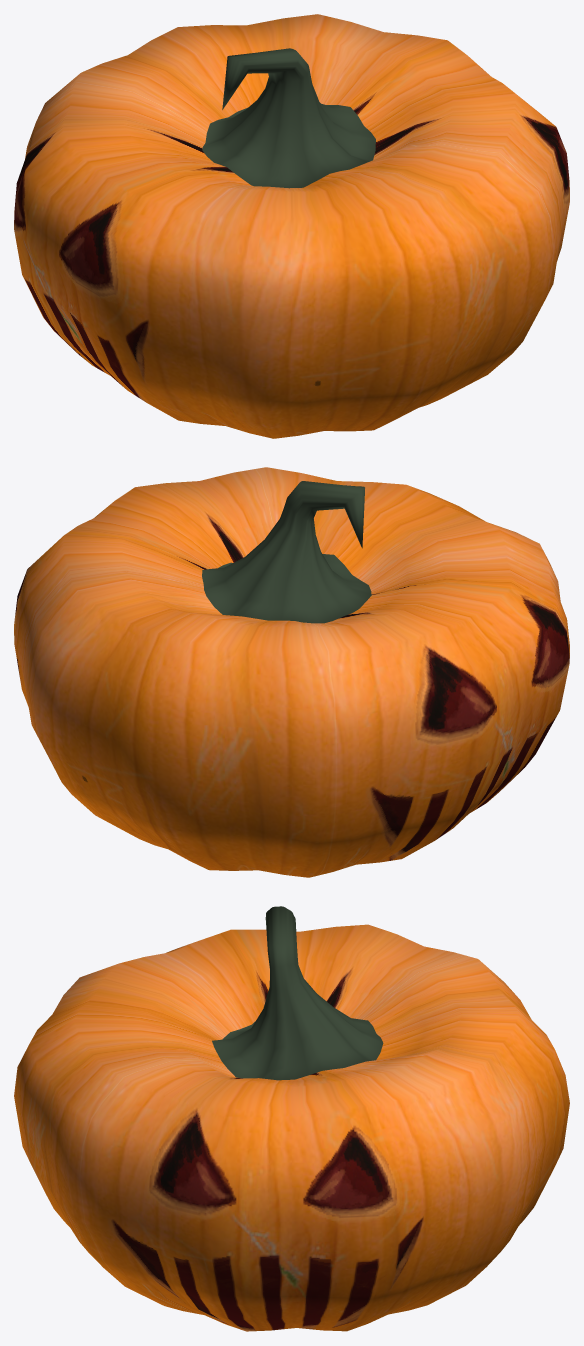
Rendered from PUMPKIN_LARGE.fbx.
3 renders of one model, top to bottom at view 1: azimuth 30°, elevation 25°; view 2: azimuth 150°, elevation 25°; view 3: azimuth 270°, elevation 25°, orthographic. The views are drawn at different scales.
Parts seen in each view (by area): view 1: pSphere16; view 2: pSphere16; view 3: pSphere16.
Part boxes in pixels (x1=…): pSphere16: x1=14, y1=14, x2=569, y2=438; pSphere16: x1=14, y1=467, x2=569, y2=877; pSphere16: x1=14, y1=906, x2=569, y2=1331.
Bounding box in the file's own units: 1.14 × 0.8436 × 1.17.
